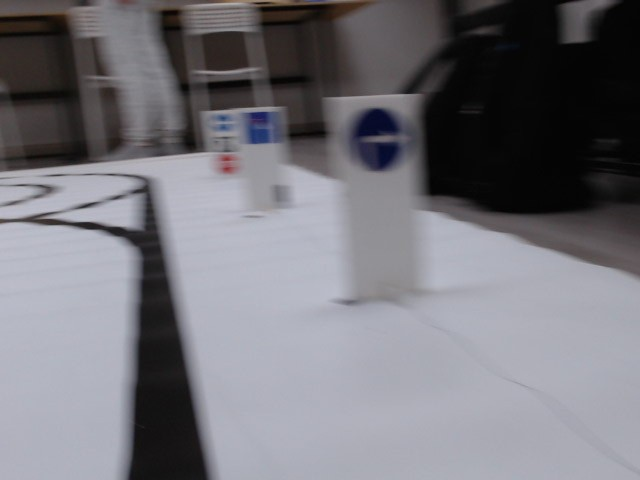Right: (352, 107, 405, 170)
